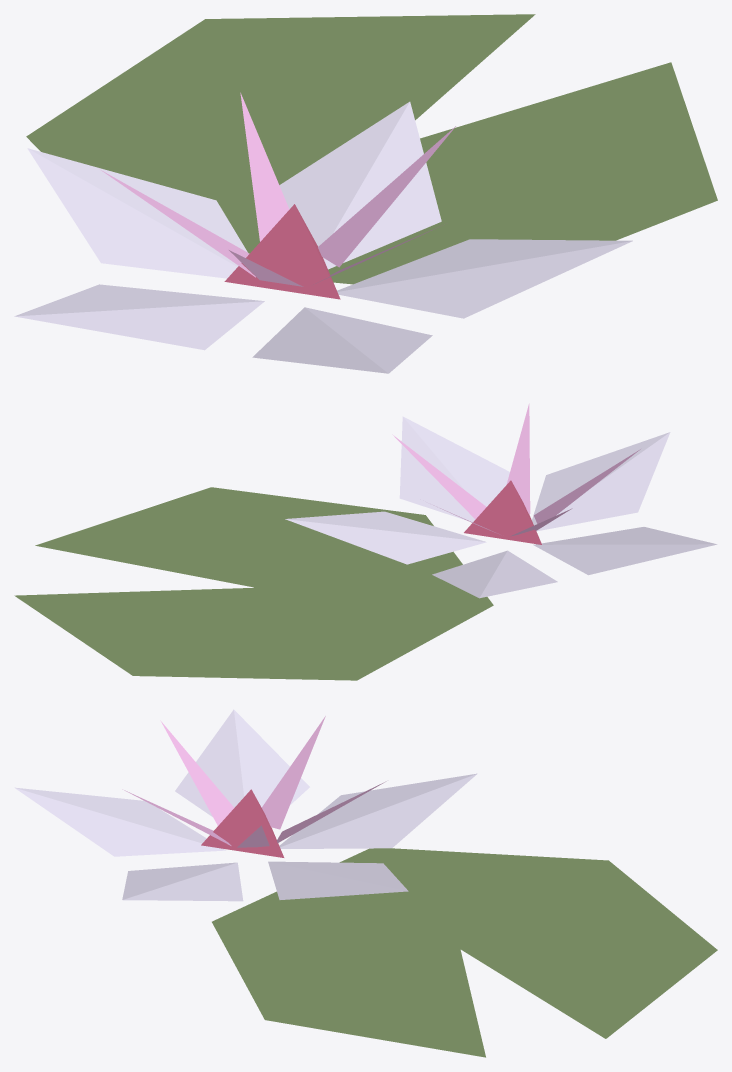
Rendered from plant_lotus_c.obj.
3 renders of one model, top to bottom at view 1: azimuth 30°, elevation 25°; view 2: azimuth 150°, elevation 25°; view 3: azimuth 270°, elevation 25°, orthographic. The views are drawn at different scales.
Parts seen in each view (by area): view 1: plant_lotus_c_0, plant_lotus_c_4, plant_lotus_c_9, plant_lotus_c_1, plant_lotus_c_2, plant_lotus_c_6, plant_lotus_c_3, plant_lotus_c_16, plant_lotus_c_10, plant_lotus_c_7, plant_lotus_c_5, plant_lotus_c_8 (+4 smaller); view 2: plant_lotus_c_0, plant_lotus_c_7, plant_lotus_c_2, plant_lotus_c_10, plant_lotus_c_5, plant_lotus_c_9, plant_lotus_c_8, plant_lotus_c_16, plant_lotus_c_1, plant_lotus_c_6, plant_lotus_c_4, plant_lotus_c_3 (+3 smaller); view 3: plant_lotus_c_0, plant_lotus_c_3, plant_lotus_c_8, plant_lotus_c_6, plant_lotus_c_4, plant_lotus_c_5, plant_lotus_c_7, plant_lotus_c_1, plant_lotus_c_10, plant_lotus_c_16, plant_lotus_c_12, plant_lotus_c_2 (+3 smaller).
Boxes of the visible parts, <box> form: plant_lotus_c_0: <box>26,14,717,284</box>; plant_lotus_c_4: <box>27,148,237,278</box>; plant_lotus_c_9: <box>337,241,632,318</box>; plant_lotus_c_1: <box>323,102,441,269</box>; plant_lotus_c_2: <box>279,101,409,246</box>; plant_lotus_c_6: <box>14,301,264,350</box>; plant_lotus_c_3: <box>28,148,247,266</box>; plant_lotus_c_16: <box>224,204,340,299</box>; plant_lotus_c_10: <box>337,239,632,291</box>; plant_lotus_c_7: <box>252,307,387,373</box>; plant_lotus_c_5: <box>15,284,264,316</box>; plant_lotus_c_8: <box>305,307,432,373</box>; plant_lotus_c_0: <box>14,487,493,680</box>; plant_lotus_c_7: <box>536,432,670,531</box>; plant_lotus_c_2: <box>285,519,486,564</box>; plant_lotus_c_10: <box>399,416,475,522</box>; plant_lotus_c_5: <box>533,544,717,575</box>; plant_lotus_c_9: <box>403,417,509,506</box>; plant_lotus_c_8: <box>532,432,669,525</box>; plant_lotus_c_16: <box>464,480,541,544</box>; plant_lotus_c_1: <box>286,511,485,541</box>; plant_lotus_c_6: <box>533,527,716,544</box>; plant_lotus_c_4: <box>480,551,557,597</box>; plant_lotus_c_3: <box>432,550,507,598</box>; plant_lotus_c_0: <box>212,848,717,1057</box>; plant_lotus_c_3: <box>280,774,476,848</box>; plant_lotus_c_8: <box>15,788,225,856</box>; plant_lotus_c_6: <box>175,709,243,816</box>; plant_lotus_c_4: <box>279,773,476,847</box>; plant_lotus_c_5: <box>234,710,309,807</box>; plant_lotus_c_7: <box>15,787,225,850</box>; plant_lotus_c_1: <box>268,861,407,899</box>; plant_lotus_c_10: <box>123,862,243,901</box>; plant_lotus_c_16: <box>201,789,284,857</box>; plant_lotus_c_12: <box>261,716,325,829</box>; plant_lotus_c_2: <box>269,861,408,891</box>.
Size of the model in its own units: 0.8616 by 0.14 by 0.8751.
